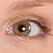eye: (13, 22, 31, 35)
